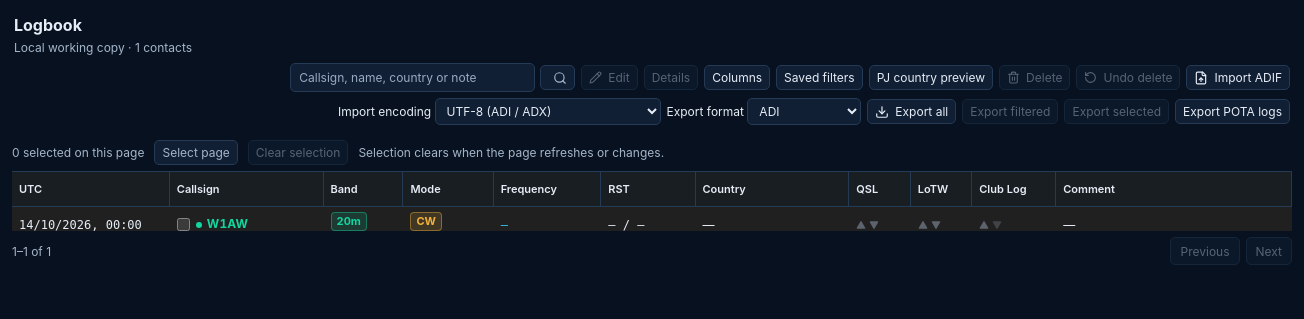
Test: distinguishes native filtered export that is cancelled and permits retry
Check: the text "W1AW" is shown, box [170,207,324,231]
Type "W1AW" into the field named "Search logbook" at {"x": 413, "y": 78}, box [290,63,535,92]
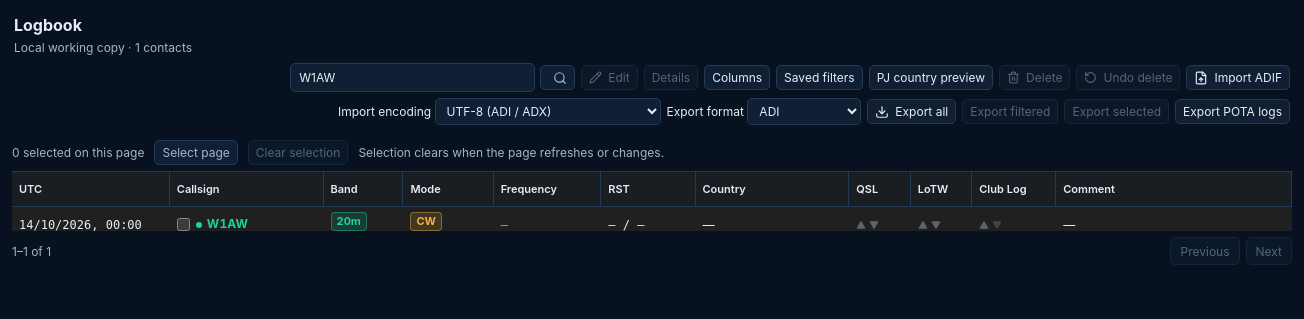
Click the button named "Search" at {"x": 558, "y": 78}, box [540,65,575,90]
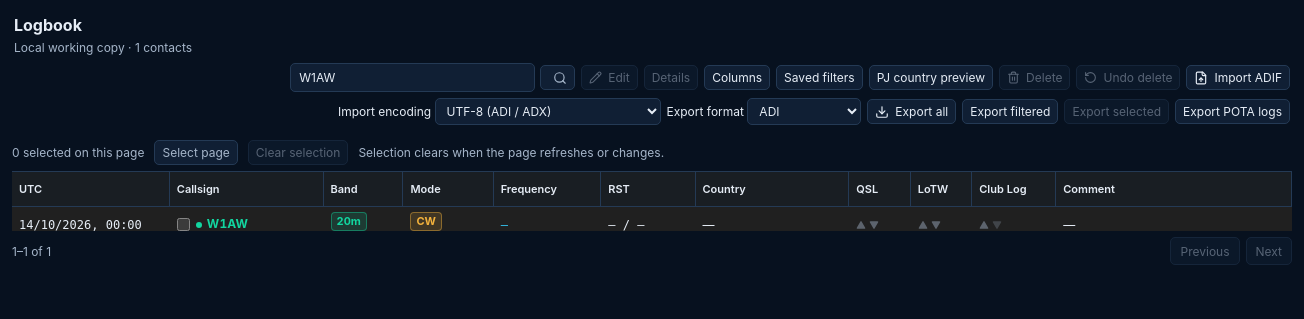
Check: the button "Export filtered" is enabled
Click the button "Export filtered" at {"x": 1010, "y": 112}, box [962,99,1058,124]
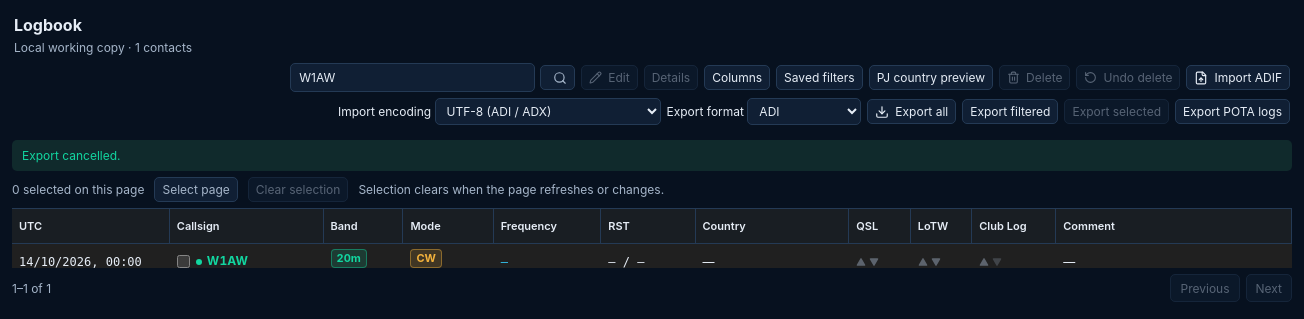
Check: the text "1 QSOs exported from the integrated logbook." is not shown
Check: the button "Export filtered" is enabled
Check: the text "Export cancelled." is shown, box [12,140,1292,171]
Click the button "Export filtered" at {"x": 1010, "y": 112}, box [962,99,1058,124]
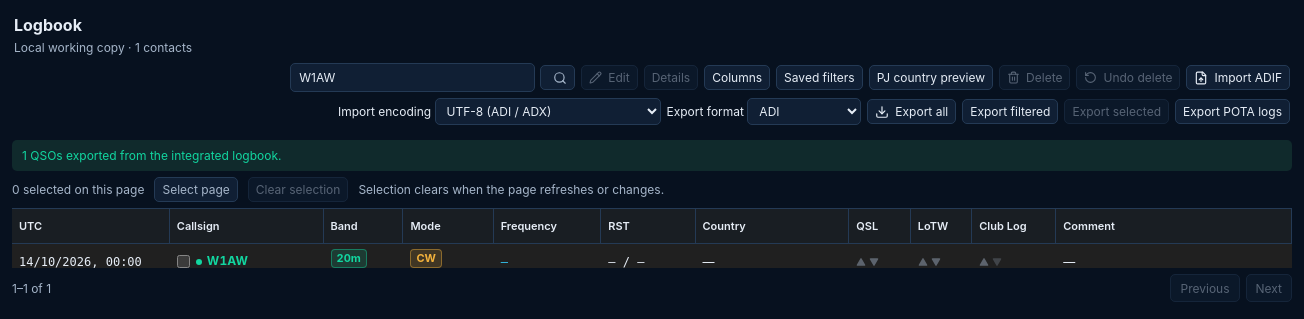
Check: the text "1 QSOs exported from the integrated logbook." is shown, box [12,140,1292,171]
